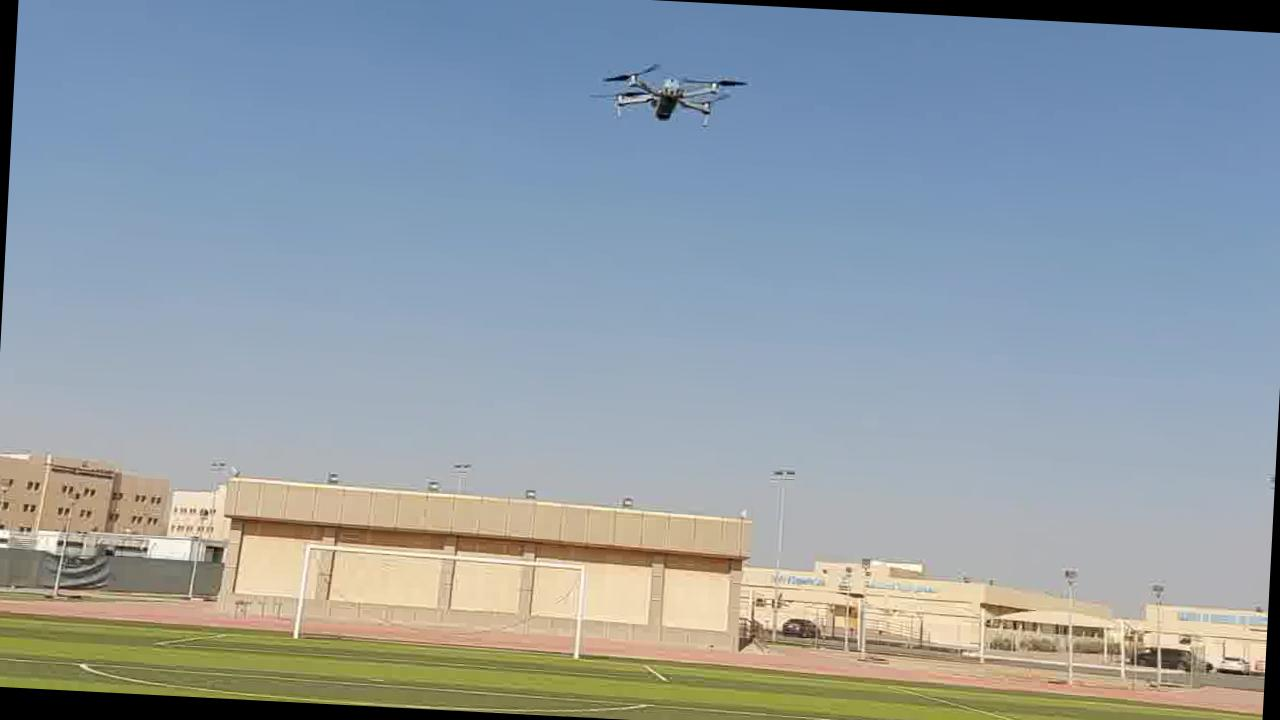drone: (594, 60, 752, 134)
